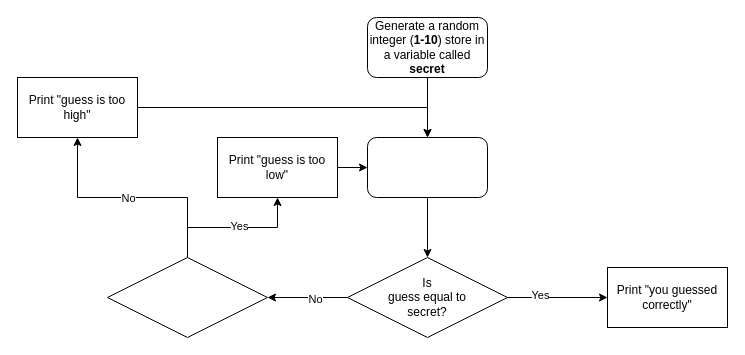
Image size: 745x355. Some labels were removed from this diagram. The shapes that lost their labels are listed below. From the top down, each one's box as (x1, y1, x2, y2) in pixels, then its label:
(366, 136, 488, 198): Get user guess and store in a variable called guess
(106, 256, 268, 338): Is guess less than secret?
